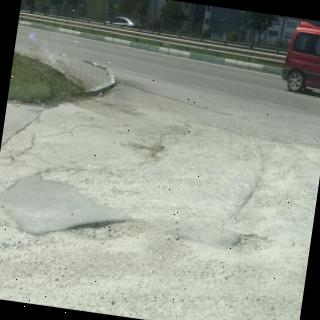pothole: (54, 220, 147, 242), (227, 234, 273, 255)
